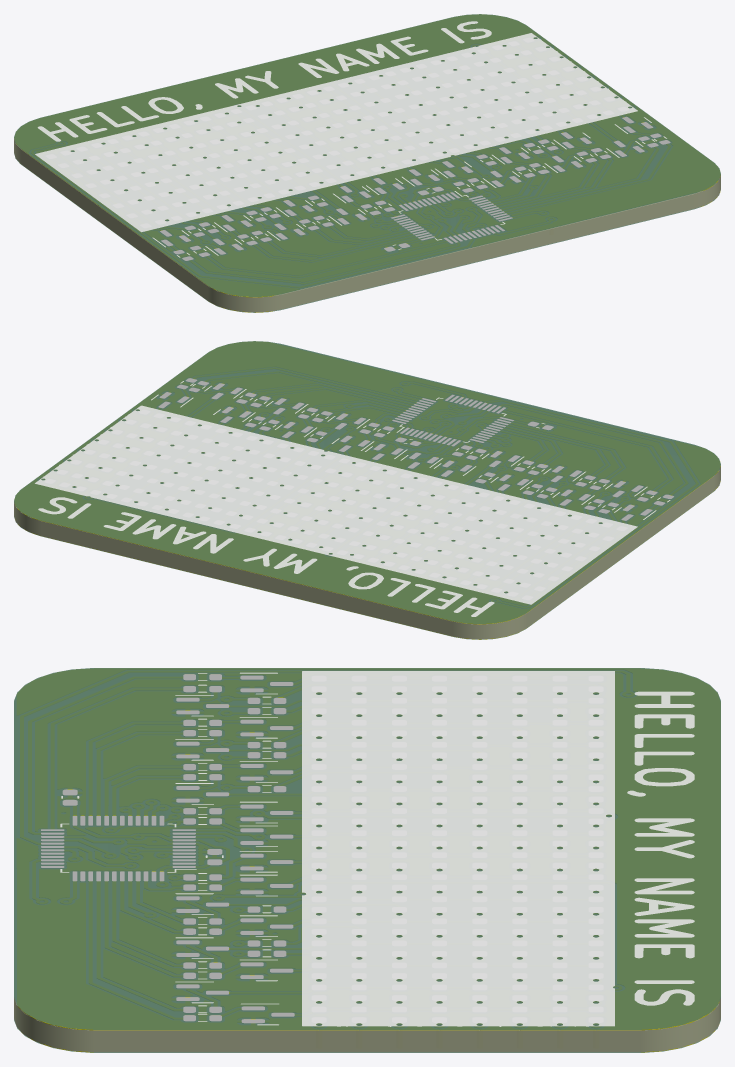
The model's file is name-badge-sao-hello-my-name-is-tag-sao.glb.
3 renders of one model, top to bottom at view 1: azimuth 30°, elevation 25°; view 2: azimuth 150°, elevation 25°; view 3: azimuth 270°, elevation 25°, orthographic. The views are drawn at different scales.
Visible parts, largest first — view 1: =>[0:1:1:7], =>[0:1:1:5], =>[0:1:1:2], =>[0:1:1:9]; view 2: =>[0:1:1:7], =>[0:1:1:5], =>[0:1:1:2], =>[0:1:1:9]; view 3: =>[0:1:1:7], =>[0:1:1:5], =>[0:1:1:2], =>[0:1:1:9].
Part boxes in pixels (left/top/right/bottom): =>[0:1:1:7]: left=14, top=14, right=720, bottom=312; =>[0:1:1:5]: left=35, top=21, right=666, bottom=257; =>[0:1:1:2]: left=15, top=15, right=720, bottom=312; =>[0:1:1:9]: left=14, top=38, right=720, bottom=312; =>[0:1:1:7]: left=14, top=341, right=720, bottom=639; =>[0:1:1:5]: left=35, top=381, right=670, bottom=616; =>[0:1:1:2]: left=15, top=342, right=720, bottom=639; =>[0:1:1:9]: left=14, top=369, right=720, bottom=639; =>[0:1:1:7]: left=14, top=668, right=720, bottom=1052; =>[0:1:1:5]: left=60, top=671, right=694, bottom=1026; =>[0:1:1:2]: left=17, top=669, right=719, bottom=1052; =>[0:1:1:9]: left=14, top=670, right=720, bottom=1052.
Bounding box in the file's own units: 0.0542 × 0.00166 × 0.0447.
4 materials, 4 textured.
